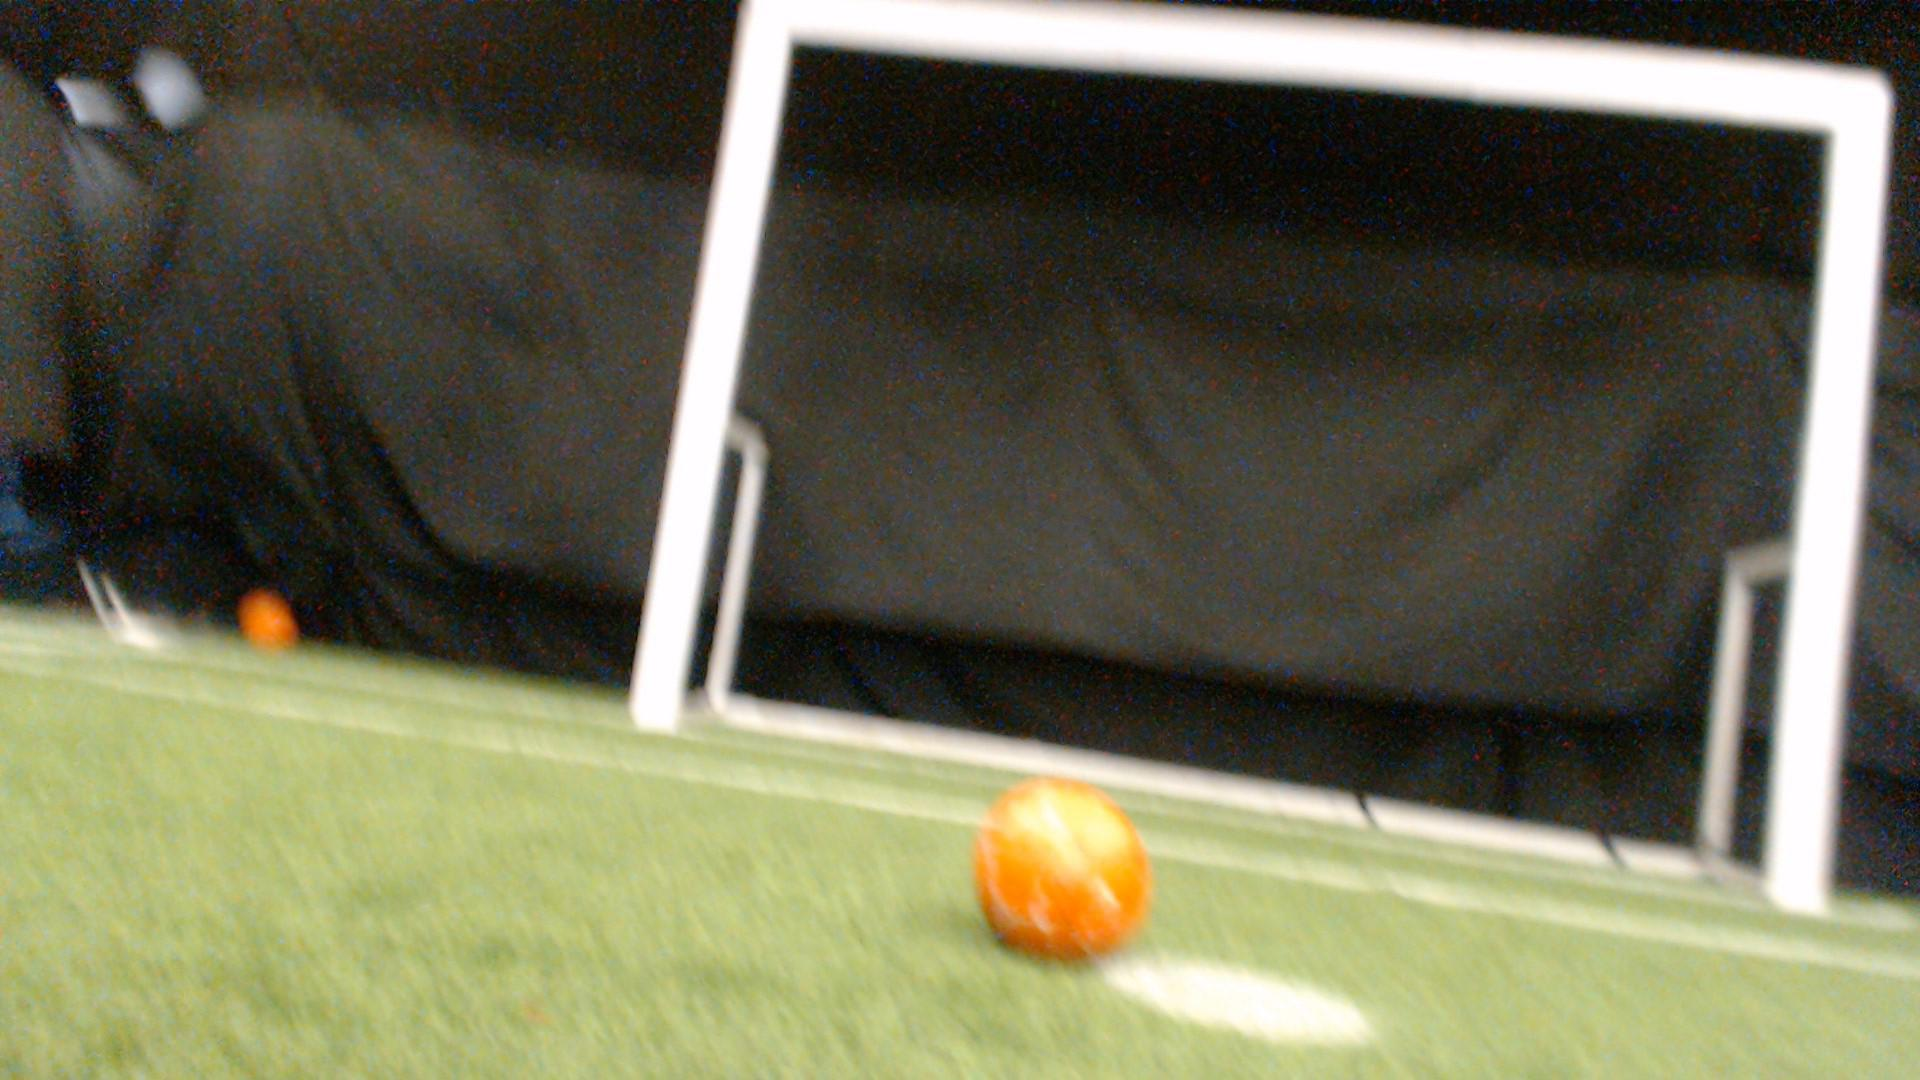bola: (942, 762, 1180, 981), (222, 585, 310, 654)
